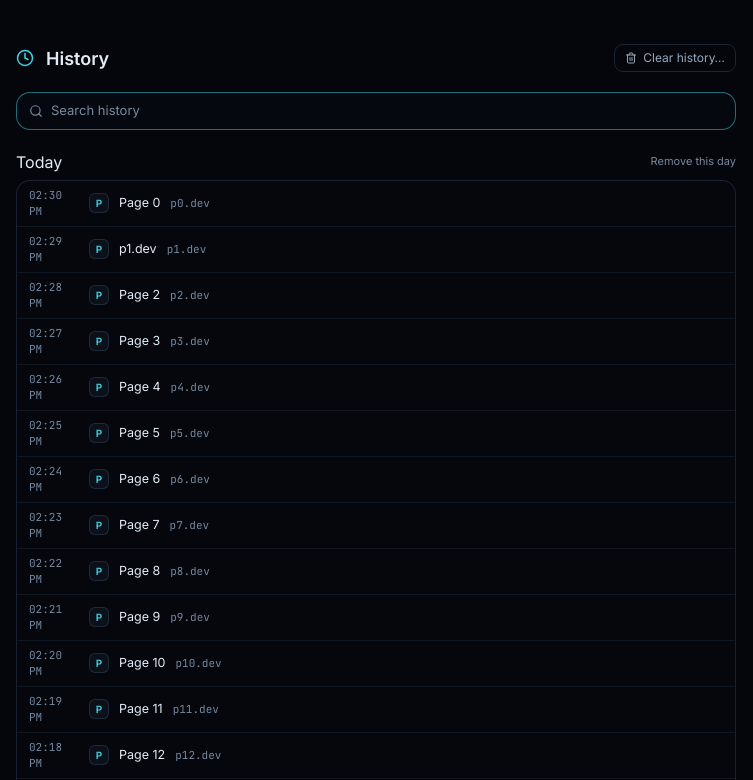
Test case: HistoryPage (mindeck://history) › lists pages by day, searches, pages on, and opens a page here or in a tab behind
Check: the text "p1.dev" is shown 2 times, box [119,240,157,258]; [167,241,206,257]
Click the text "Page 0".
click(140, 203)  # box [119,194,160,212]
(page scrolled)
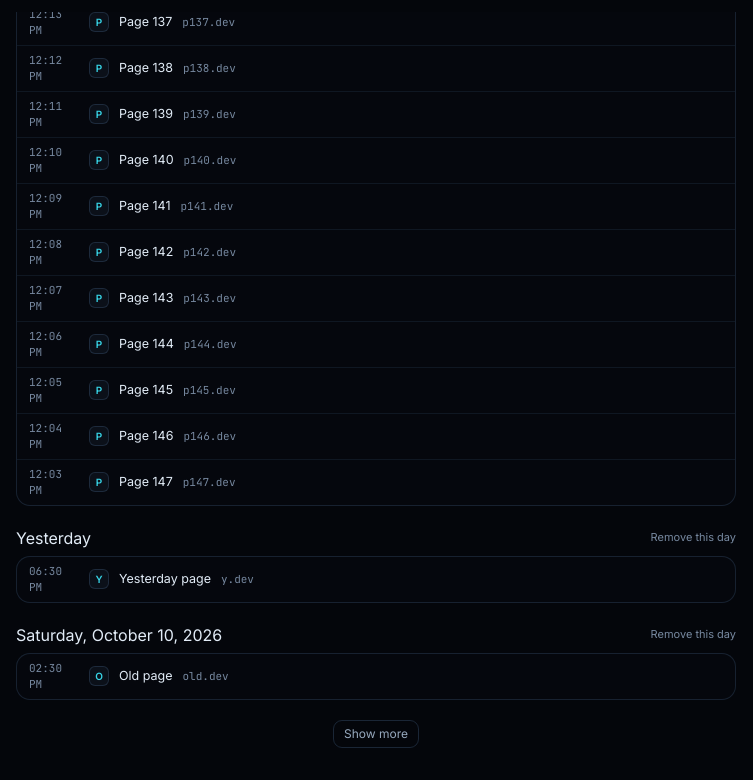
Click the button "Show more".
click(376, 734)  # box [333,720,419,748]
(page scrolled)
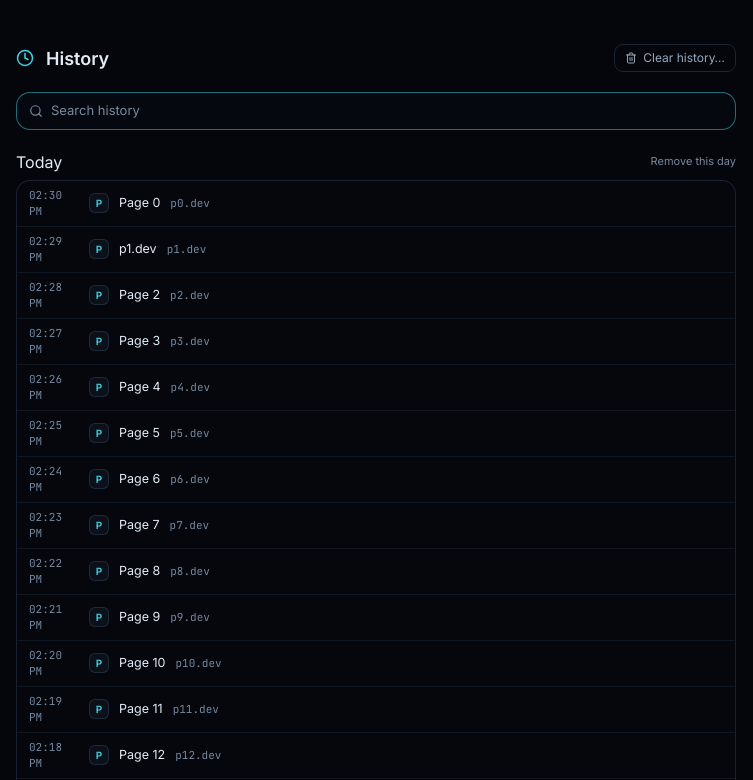
Check: the button "Show more" is gone
Type " hit " into the field labelled "Search history".
click(387, 111); type(" hit ")  # box [51,101,723,120]
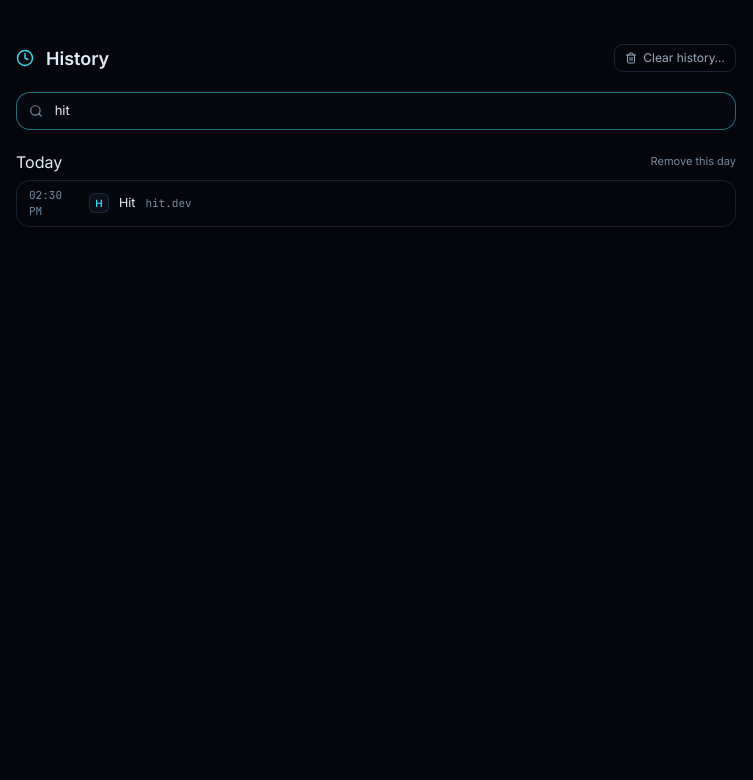
Check: the text "Hit" is shown, box [119,194,135,212]
Replace the text in the field named "Search history" with "none" at (387, 111), box [51,101,723,120]
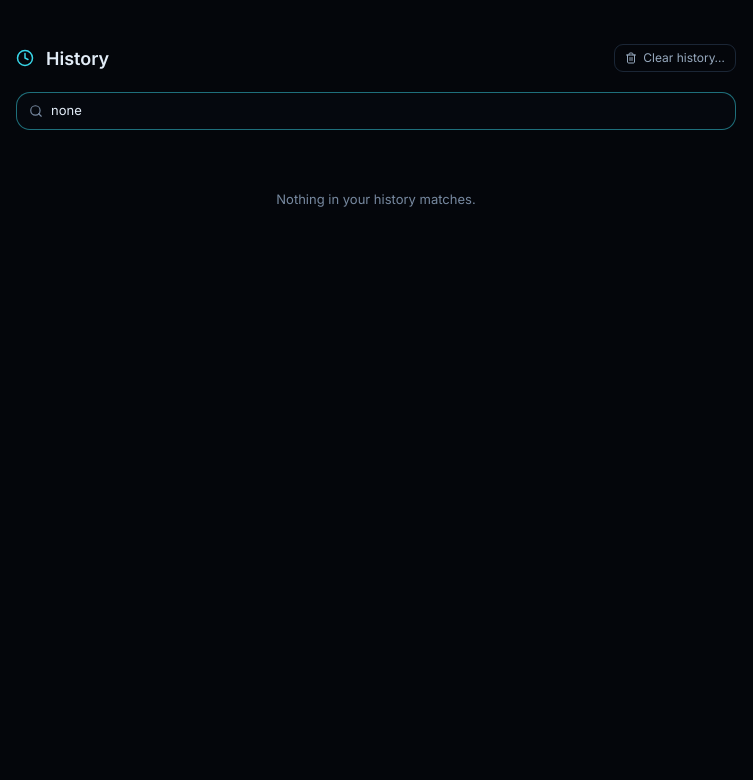
Check: the text "Nothing in your history matches." is shown, box [276,190,476,206]
